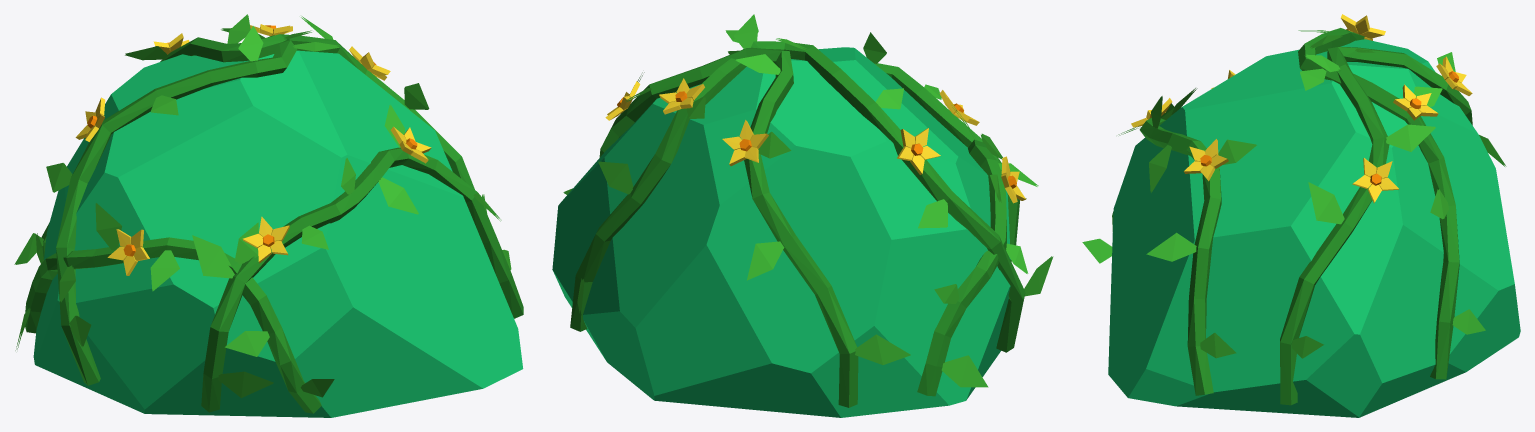
Rendered from VineBoulder_Split.fbx.
The picture shows the model from 3 angles, left to right: view 1: azimuth 30°, elevation 25°; view 2: azimuth 150°, elevation 25°; view 3: azimuth 270°, elevation 25°; orthographic projection. The views are drawn at different scales.
Visible parts, largest first — view 1: VineBoulder_PieceA, VineBoulder_PieceB, VineBoulder_Vines_L, VineBoulder_Leaves_L, VineBoulder_Vines_R, VineBoulder_Leaves_R, VineBoulder_Flowers_Petals_L, VineBoulder_Flowers_Petals_R; view 2: VineBoulder_PieceA, VineBoulder_PieceB, VineBoulder_Vines_L, VineBoulder_Vines_R, VineBoulder_Leaves_L, VineBoulder_Flowers_Petals_L, VineBoulder_Leaves_R, VineBoulder_Flowers_Petals_R; view 3: VineBoulder_PieceB, VineBoulder_Vines_R, VineBoulder_Leaves_R, VineBoulder_PieceA, VineBoulder_Vines_L, VineBoulder_Flowers_Petals_R, VineBoulder_Leaves_L, VineBoulder_Flowers_Petals_L.
Part boxes in pixels (x1,y1,x2,y2): VineBoulder_PieceA: (33, 54, 370, 417); VineBoulder_PieceB: (259, 50, 523, 410); VineBoulder_Vines_L: (25, 37, 352, 413); VineBoulder_Leaves_L: (14, 28, 349, 398); VineBoulder_Vines_R: (258, 34, 523, 318); VineBoulder_Leaves_R: (221, 14, 511, 270); VineBoulder_Flowers_Petals_L: (75, 33, 289, 275); VineBoulder_Flowers_Petals_R: (250, 24, 431, 163); VineBoulder_PieceA: (687, 50, 1010, 417); VineBoulder_PieceB: (552, 47, 864, 403); VineBoulder_Vines_L: (744, 43, 1025, 407); VineBoulder_Vines_R: (570, 41, 875, 331); VineBoulder_Leaves_L: (747, 36, 1053, 387); VineBoulder_Flowers_Petals_L: (722, 90, 1026, 203); VineBoulder_Leaves_R: (563, 14, 876, 313); VineBoulder_Flowers_Petals_R: (605, 78, 704, 120); VineBoulder_PieceB: (1108, 62, 1520, 417); VineBoulder_Vines_R: (1146, 48, 1459, 405); VineBoulder_Leaves_R: (1146, 35, 1485, 358); VineBoulder_PieceA: (1113, 39, 1498, 229); VineBoulder_Vines_L: (1112, 28, 1472, 231); VineBoulder_Flowers_Petals_R: (1183, 84, 1438, 203); VineBoulder_Leaves_L: (1082, 30, 1506, 263); VineBoulder_Flowers_Petals_L: (1131, 14, 1472, 127).
Size of the model in its own units: 14.4 by 9.27 by 12.76.
